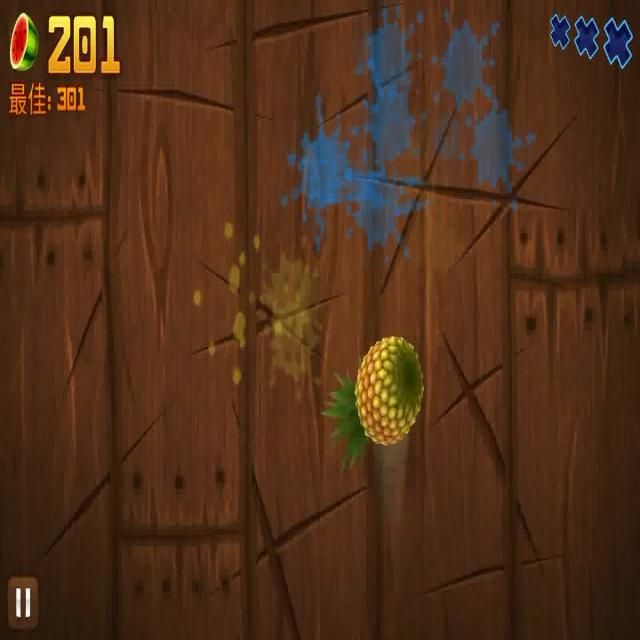fruit: (324, 334, 424, 464)
